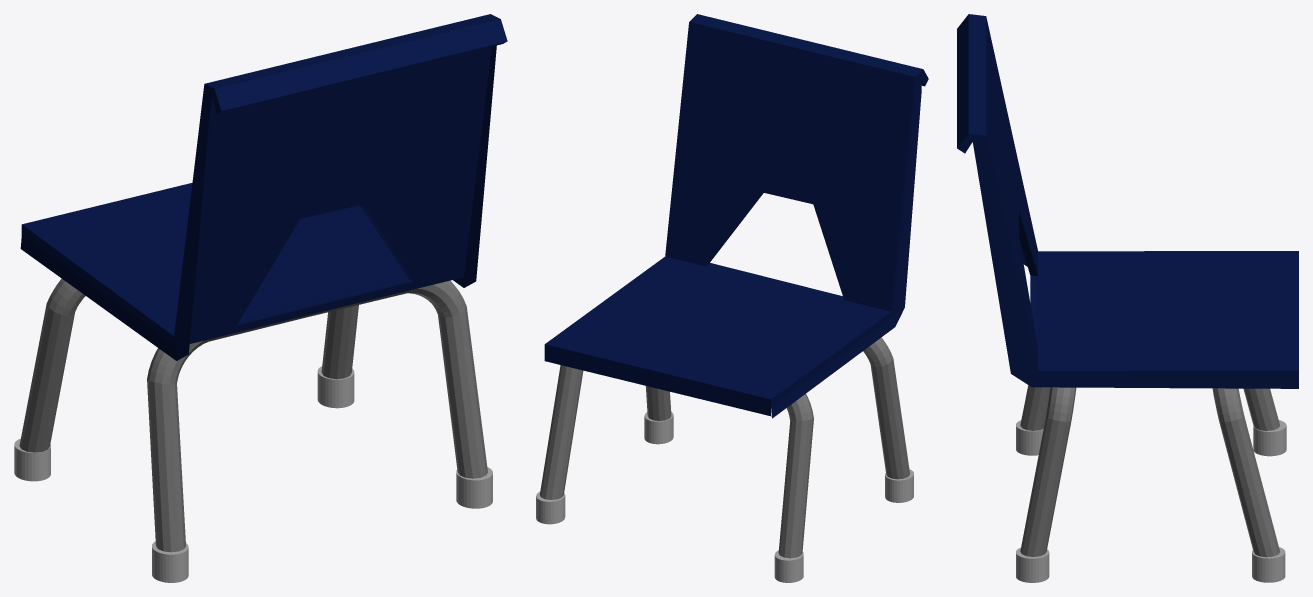
The model's file is schoolchair2.fbx.
3 views of the same model, side by side, from view 1: azimuth 30°, elevation 25°; view 2: azimuth 150°, elevation 25°; view 3: azimuth 270°, elevation 25° (orthographic). The views are drawn at different scales.
Visible parts, largest first — view 1: Seat, MetalLegs, Cylinder; view 2: Seat, MetalLegs, Cylinder; view 3: Seat, MetalLegs, Cylinder.
Boxes of the visible parts, <box> form: Seat: <box>20,14,507,360</box>; MetalLegs: <box>19,278,487,552</box>; Cylinder: <box>14,366,492,582</box>; Seat: <box>544,14,928,418</box>; MetalLegs: <box>540,337,909,558</box>; Cylinder: <box>536,412,913,582</box>; Seat: <box>957,14,1298,388</box>; MetalLegs: <box>1020,385,1279,557</box>; Cylinder: <box>1016,420,1286,582</box>.
Bounding box in the file's own units: 639 × 932 × 659.
